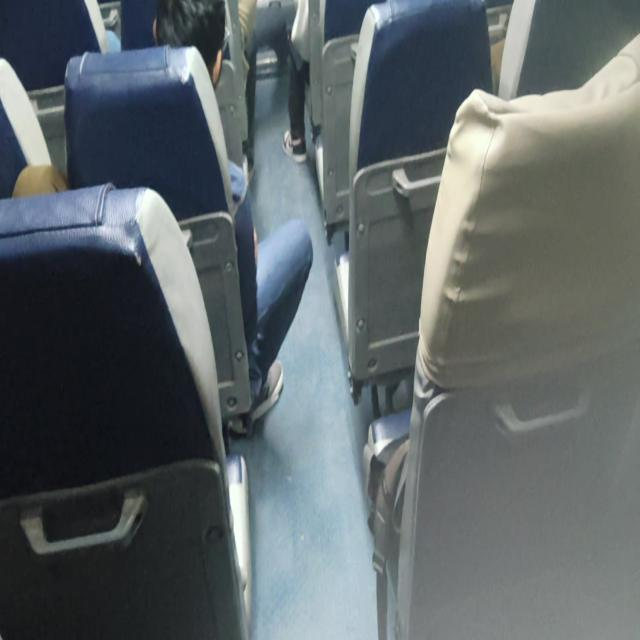person: (147, 0, 233, 90)
